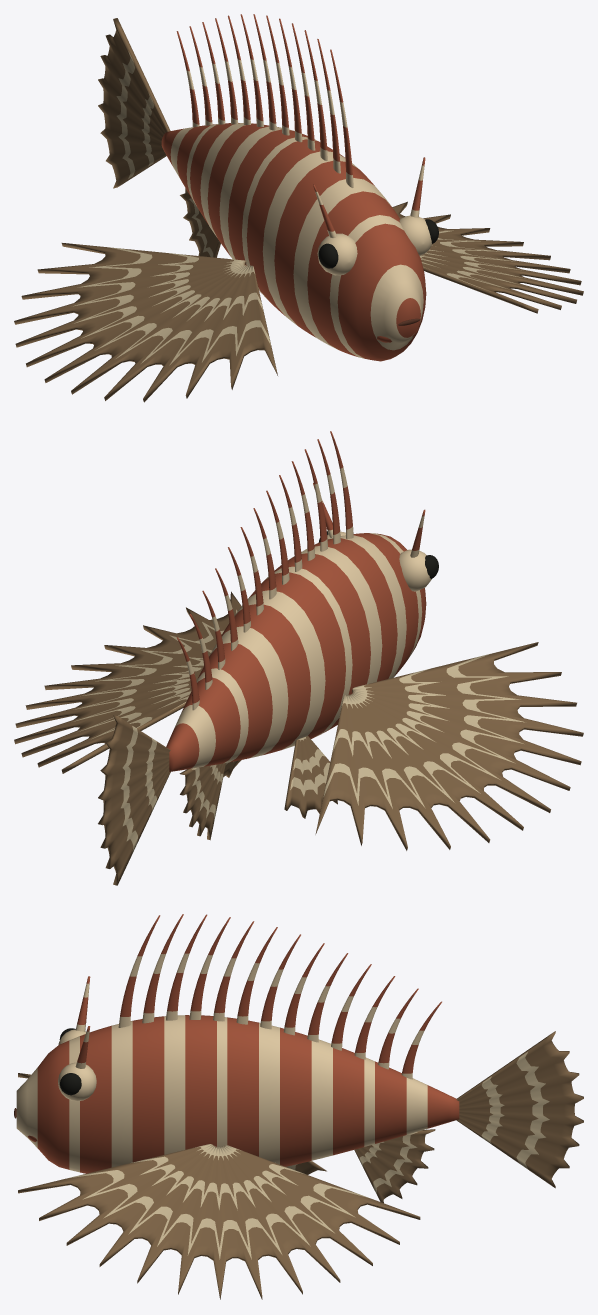
3 renders of one model, top to bottom at view 1: azimuth 30°, elevation 25°; view 2: azimuth 150°, elevation 25°; view 3: azimuth 270°, elevation 25°, orthographic. The views are drawn at different scales.
Visible parts, largest first — view 1: Striped_deep_body, Left_pectoral_fan, Right_pectoral_fan, Caudal_tail_fan, Anal_fin, Left_eye_socket, Right_eye_socket, Dorsal_spine_00, Dorsal_spine_01, Dorsal_spine_02, Dorsal_spine_03, Dorsal_spine_04 (+5 smaller); view 2: Striped_deep_body, Left_pectoral_fan, Right_pectoral_fan, Caudal_tail_fan, Left_pelvic_fin, Anal_fin, Left_eye_socket, Dorsal_spine_00, Dorsal_spine_01; view 3: Striped_deep_body, Right_pectoral_fan, Caudal_tail_fan, Anal_fin, Dorsal_spine_00, Right_eye_socket, Dorsal_spine_01, Dorsal_spine_02, Dorsal_spine_03, Dorsal_spine_04, Dorsal_spine_05, Dorsal_spine_06 (+6 smaller).
Boxes of the visible parts, <box> form: Striped_deep_body: <box>161,123,426,361</box>; Left_pectoral_fan: <box>14,243,277,402</box>; Right_pectoral_fan: <box>392,201,583,313</box>; Caudal_tail_fan: <box>98,18,170,188</box>; Anal_fin: <box>180,188,220,257</box>; Left_eye_socket: <box>317,233,357,275</box>; Right_eye_socket: <box>399,215,431,255</box>; Dorsal_spine_00: <box>330,49,353,187</box>; Dorsal_spine_01: <box>317,39,340,173</box>; Dorsal_spine_02: <box>304,30,327,160</box>; Dorsal_spine_03: <box>292,23,315,150</box>; Dorsal_spine_04: <box>279,18,302,142</box>; Striped_deep_body: <box>166,533,426,771</box>; Left_pectoral_fan: <box>315,642,583,850</box>; Right_pectoral_fan: <box>14,591,241,773</box>; Caudal_tail_fan: <box>98,715,170,885</box>; Left_pelvic_fin: <box>284,736,337,818</box>; Anal_fin: <box>179,763,226,840</box>; Left_eye_socket: <box>399,549,431,591</box>; Dorsal_spine_00: <box>330,431,353,538</box>; Dorsal_spine_01: <box>317,439,340,544</box>; Striped_deep_body: <box>16,1015,459,1173</box>; Right_pectoral_fan: <box>18,1144,420,1299</box>; Caudal_tail_fan: <box>456,1031,583,1188</box>; Anal_fin: <box>354,1129,435,1203</box>; Dorsal_spine_00: <box>118,915,160,1027</box>; Right_eye_socket: <box>58,1062,96,1101</box>; Dorsal_spine_01: <box>142,914,183,1023</box>; Dorsal_spine_02: <box>166,914,207,1020</box>; Dorsal_spine_03: <box>189,917,230,1019</box>; Dorsal_spine_04: <box>213,921,254,1021</box>; Dorsal_spine_05: <box>236,927,277,1024</box>; Dorsal_spine_06: <box>260,934,300,1029</box>.
Size of the model in its own units: 0.2746 by 0.1688 by 0.2911.
